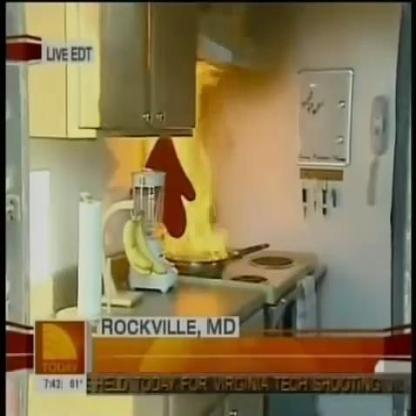fire: (158, 110, 233, 264)
